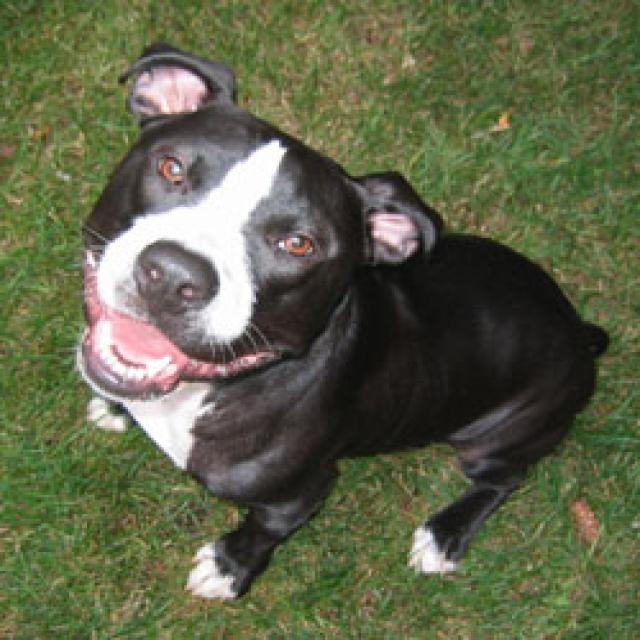dog-american_pit_bull_terrier: (69, 36, 609, 607)
